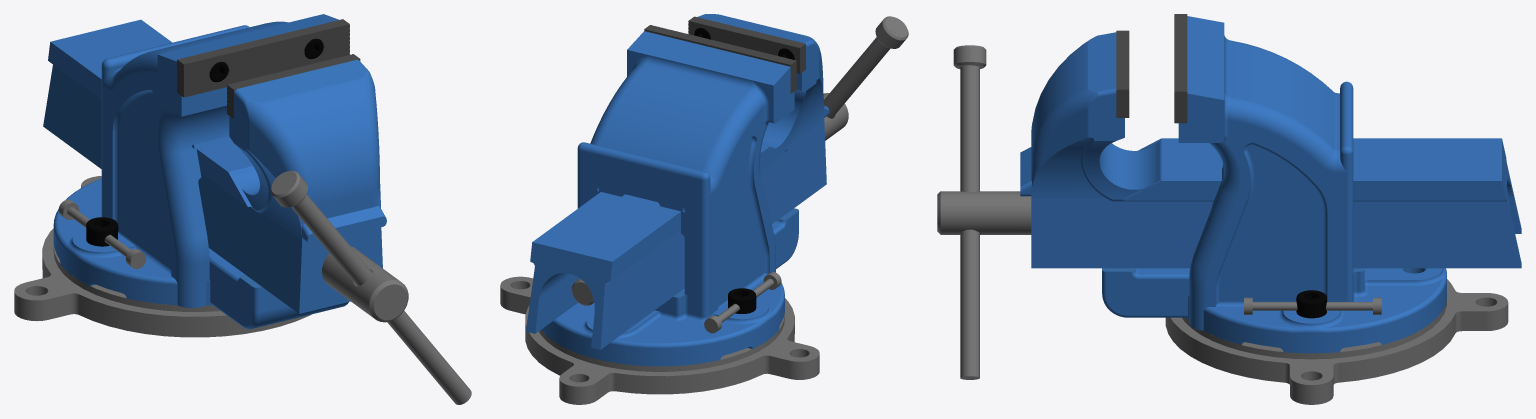
The model's file is Vise.glb.
3 renders of one model, left to right at view 1: azimuth 30°, elevation 25°; view 2: azimuth 150°, elevation 25°; view 3: azimuth 270°, elevation 25°, orthographic. The views are drawn at different scales.
Parts seen in each view (by area): view 1: Object_5.001, Object_2.001, Object_3.001, Object_4.001, Object_6.001, Object_12.001, Object_14.001, Object_11.001, Object_9.001, Object_18.001; view 2: Object_2.001, Object_5.001, Object_3.001, Object_14.001, Object_6.001, Object_4.001, Object_12.001, Object_11.001, Object_9.001, Object_18.001; view 3: Object_2.001, Object_5.001, Object_3.001, Object_6.001, Object_12.001, Object_4.001, Object_14.001, Object_22.001, Object_7.001, Object_11.001.
Part boxes in pixels (x1,y1,x2,y2): Object_5.001: (43,19,386,313); Object_2.001: (53,14,348,329); Object_3.001: (14,176,311,337); Object_4.001: (177,19,349,97); Object_6.001: (275,174,471,404); Object_12.001: (322,246,408,322); Object_14.001: (227,54,360,118); Object_11.001: (270,170,307,207); Object_9.001: (86,217,118,246); Object_18.001: (67,207,142,264); Object_2.001: (541,31,798,366); Object_5.001: (526,14,829,349); Object_3.001: (500,276,819,404); Object_14.001: (688,16,805,73); Object_6.001: (824,20,904,118); Object_4.001: (644,25,796,93); Object_12.001: (572,93,848,305); Object_11.001: (875,16,908,48); Object_9.001: (728,288,756,313); Object_18.001: (707,278,773,329); Object_2.001: (1102,16,1446,353); Object_5.001: (1020,32,1521,268); Object_3.001: (1165,279,1508,404); Object_6.001: (960,65,979,379); Object_12.001: (937,191,1031,234); Object_4.001: (1174,14,1187,123); Object_14.001: (1116,30,1129,117); Object_22.001: (1252,302,1372,310); Object_7.001: (1296,290,1326,318); Object_11.001: (953,45,986,68).
Bounding box in the file's own units: 0.2892 × 0.2345 × 0.43.
